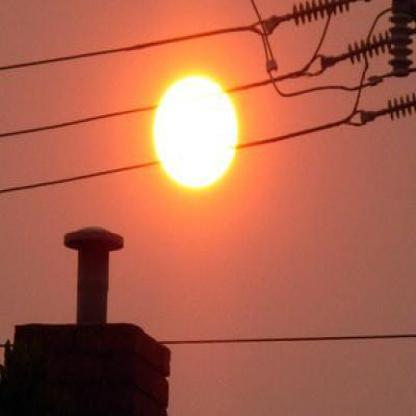other: (142, 61, 257, 211)
